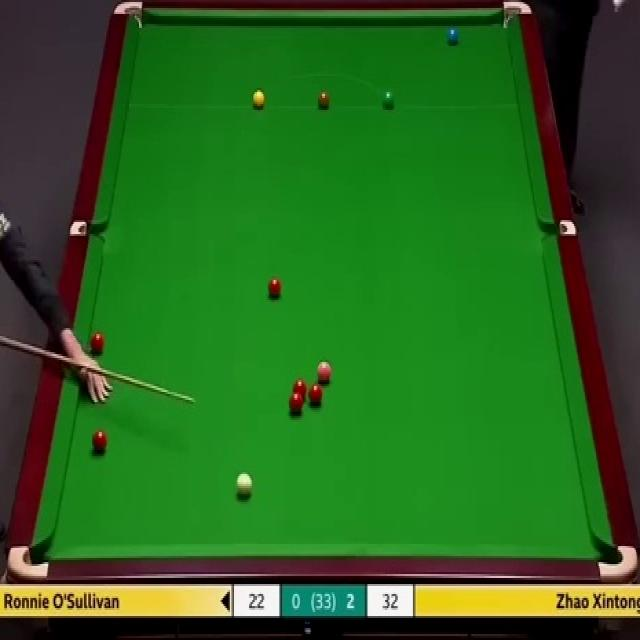pocket: (597, 543, 640, 582), (8, 538, 48, 578), (498, 0, 534, 31), (111, 0, 147, 26), (543, 217, 578, 240), (68, 217, 106, 238)
